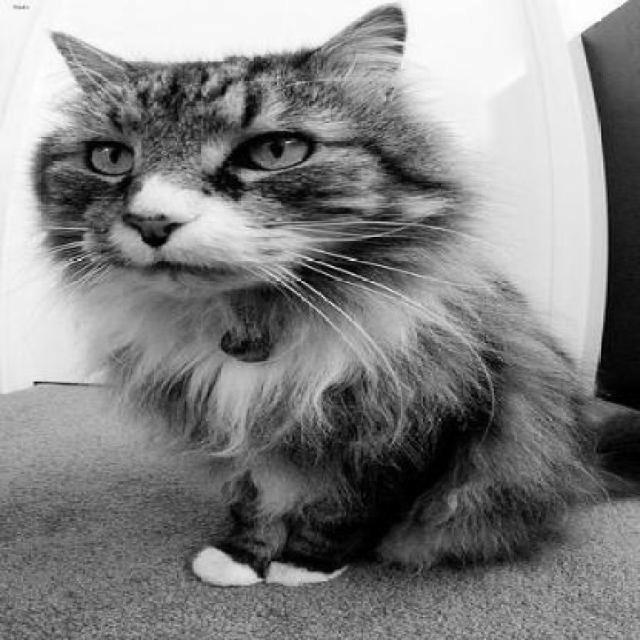Cat: (34, 6, 623, 586)
